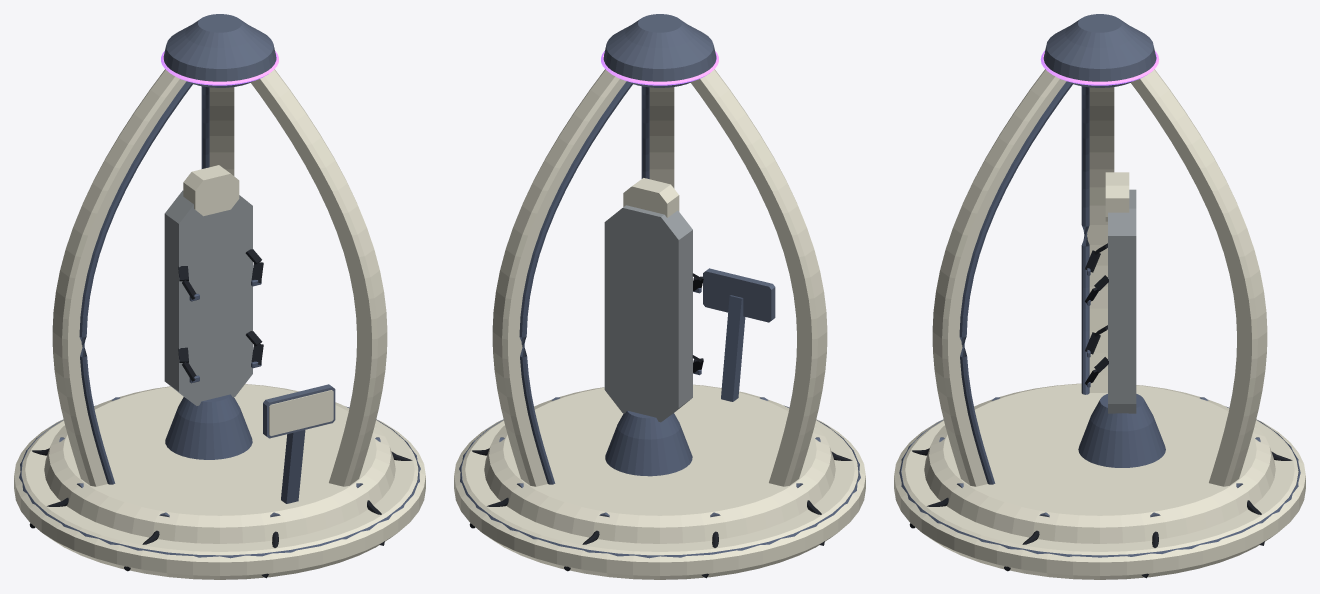
The model's file is bw_kamerton_cradle.glb.
3 renders of one model, left to right at view 1: azimuth 30°, elevation 25°; view 2: azimuth 150°, elevation 25°; view 3: azimuth 270°, elevation 25°, orthographic.
Parts seen in each view (by area): view 1: curved_stanchion, patient_form, bed_socket, coronet, loose_end, resonator; view 2: curved_stanchion, patient_form, bed_socket, coronet, loose_end, resonator; view 3: curved_stanchion, bed_socket, coronet, patient_form, loose_end, resonator.
Boxes of the visible parts, x1,y1,x2,y2 form: curved_stanchion: (14,69,425,579); patient_form: (164,190,252,405); bed_socket: (19,81,420,558); coronet: (59,14,380,517); loose_end: (29,249,412,578); resonator: (161,51,278,85); curved_stanchion: (454,69,865,579); patient_form: (604,205,692,422); bed_socket: (459,81,860,558); coronet: (499,14,820,517); loose_end: (469,273,852,578); resonator: (601,51,718,85); curved_stanchion: (894,69,1305,579); bed_socket: (899,81,1300,557); coronet: (939,14,1260,517); patient_form: (1108,189,1136,413); loose_end: (909,243,1292,578); resonator: (1040,51,1159,85).
Bounding box in the file's own units: 2.6 × 3.3 × 2.6.
